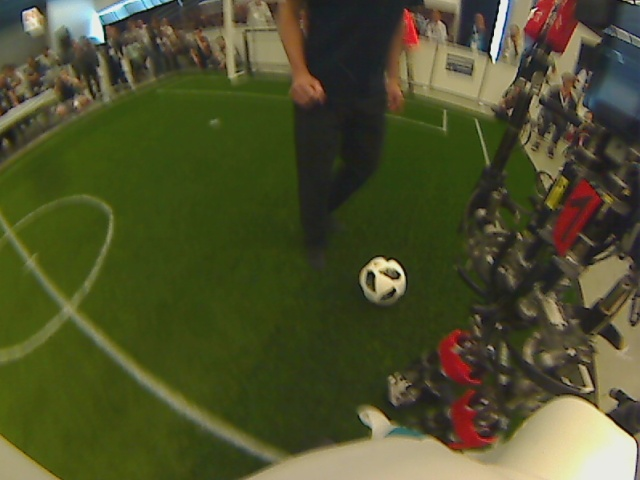ball: (356, 256, 407, 306)
